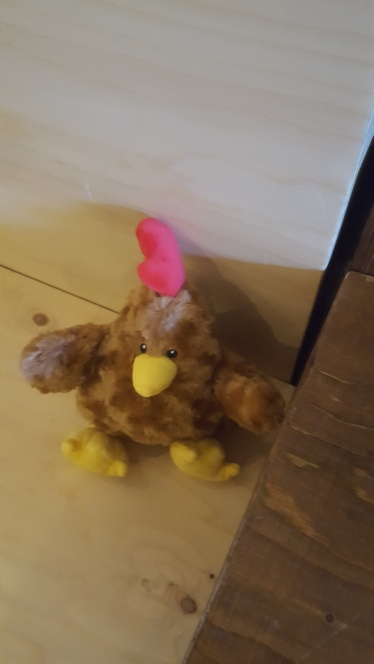chicken_front: (20, 216, 287, 485)
